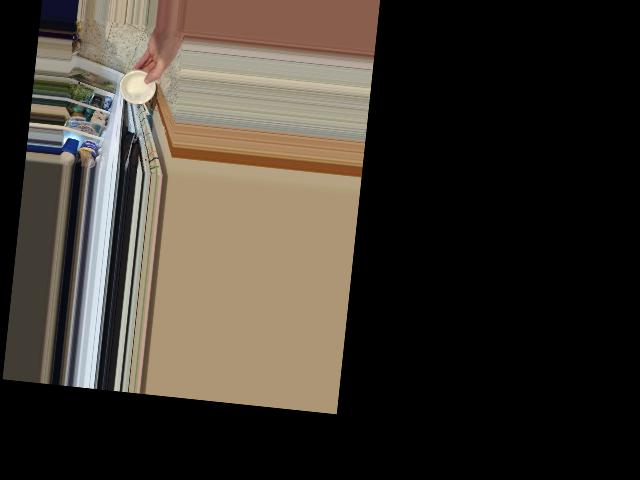cotage: (118, 66, 154, 107)
